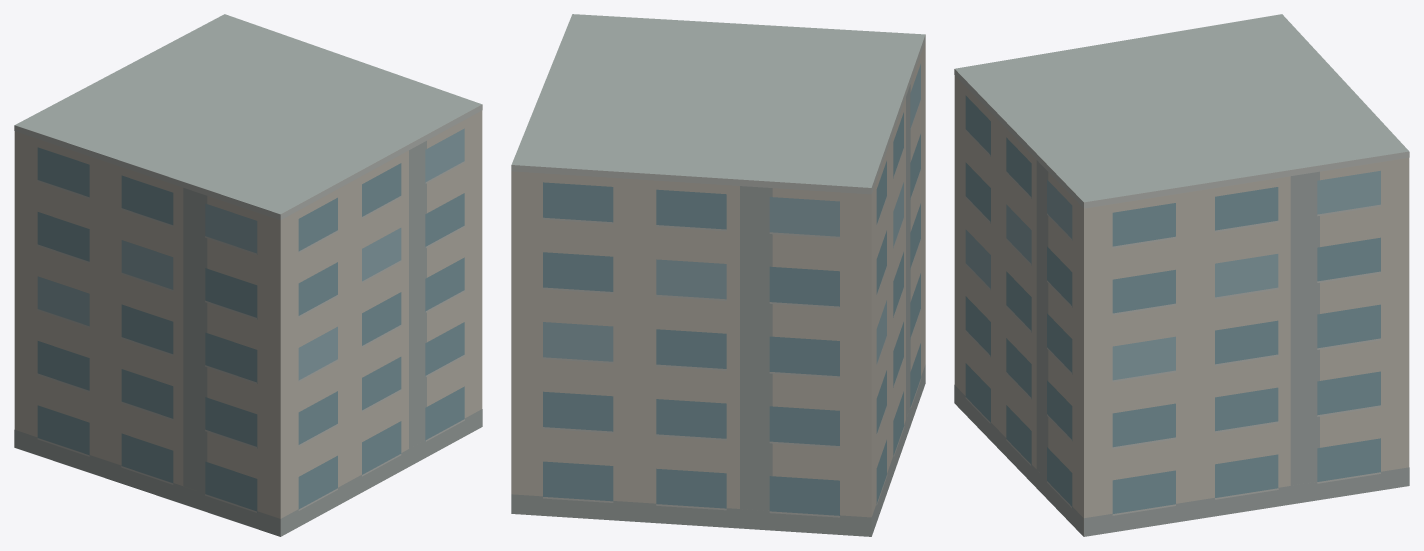
Rendered from survey-upis-32883425.glb.
3 renders of one model, left to right at view 1: azimuth 30°, elevation 25°; view 2: azimuth 150°, elevation 25°; view 3: azimuth 270°, elevation 25°, orthographic. The views are drawn at different scales.
Parts seen in each view (by area): view 1: survey-upis-32883425.tmp; view 2: survey-upis-32883425.tmp; view 3: survey-upis-32883425.tmp.
Part boxes in pixels (x1,y1,x2,y2): survey-upis-32883425.tmp: (14, 14, 482, 536); survey-upis-32883425.tmp: (511, 14, 925, 536); survey-upis-32883425.tmp: (954, 14, 1409, 536).
Bounding box in the file's own units: 15.95 × 13.2 × 16.28.
